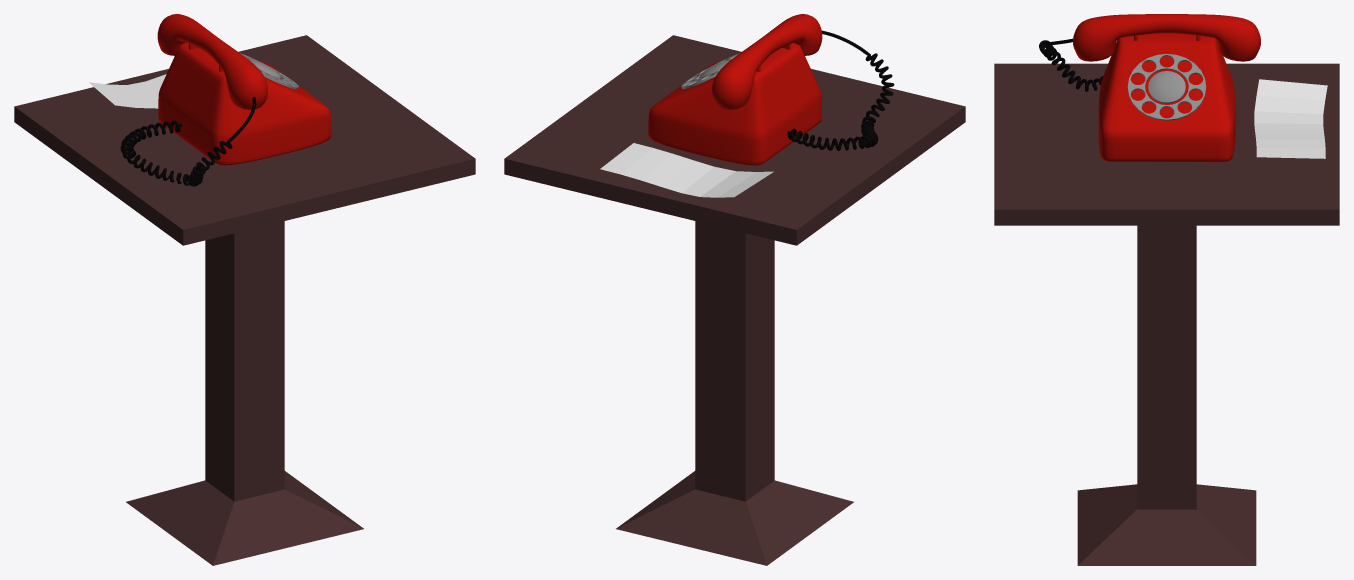
The model's file is telefono.fbx.
3 views of the same model, side by side, from view 1: azimuth 30°, elevation 25°; view 2: azimuth 150°, elevation 25°; view 3: azimuth 270°, elevation 25° (orthographic). The views are drawn at different scales.
Parts seen in each view (by area): view 1: Plane.002, Plane, Cube, Spiral, Plane.003; view 2: Plane.002, Plane, Plane.003, Cube, Spiral; view 3: Plane.002, Plane, Cube, Plane.003, Circle, Spiral.
Boxes of the visible parts, x1,y1,x2,y2 form: Plane.002: (14, 35, 475, 565); Plane: (158, 42, 331, 165); Cube: (157, 14, 267, 109); Spiral: (120, 96, 256, 186); Plane.003: (89, 74, 166, 108); Plane.002: (504, 35, 965, 565); Plane: (648, 43, 821, 165); Plane.003: (600, 143, 773, 197); Cube: (712, 14, 822, 109); Spiral: (787, 30, 894, 150); Plane.002: (994, 63, 1339, 565); Plane: (1098, 33, 1235, 162); Cube: (1073, 14, 1260, 61); Plane.003: (1254, 79, 1327, 158); Circle: (1127, 54, 1206, 120); Spiral: (1039, 38, 1103, 91).
Size of the model in its own units: 5 by 7.95 by 5.
